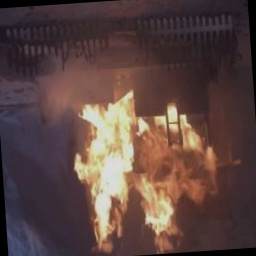fire: (55, 71, 239, 256)
